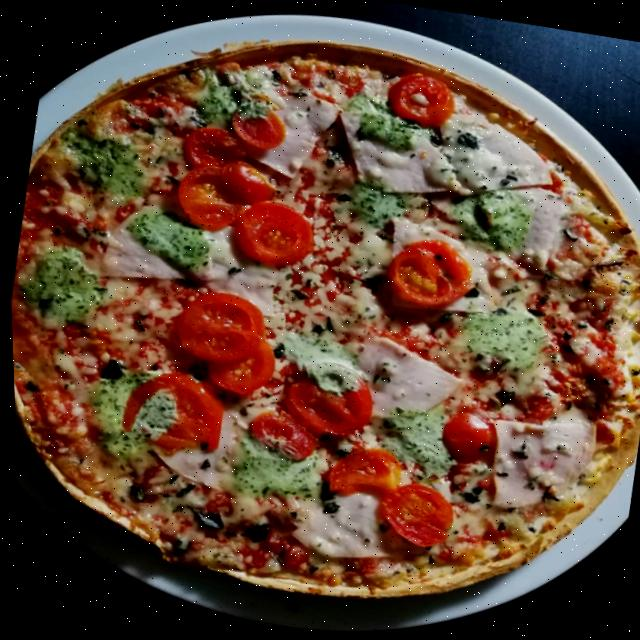pizza: (0, 0, 640, 640)
tomatoes: (110, 361, 230, 456), (164, 283, 269, 371), (273, 354, 377, 442), (377, 230, 479, 319), (226, 195, 320, 273), (370, 475, 457, 557), (314, 439, 404, 516), (168, 159, 250, 237), (201, 331, 282, 401), (380, 67, 458, 135), (241, 407, 318, 468), (175, 122, 255, 179), (433, 407, 494, 470), (214, 156, 281, 213), (221, 100, 289, 154)
